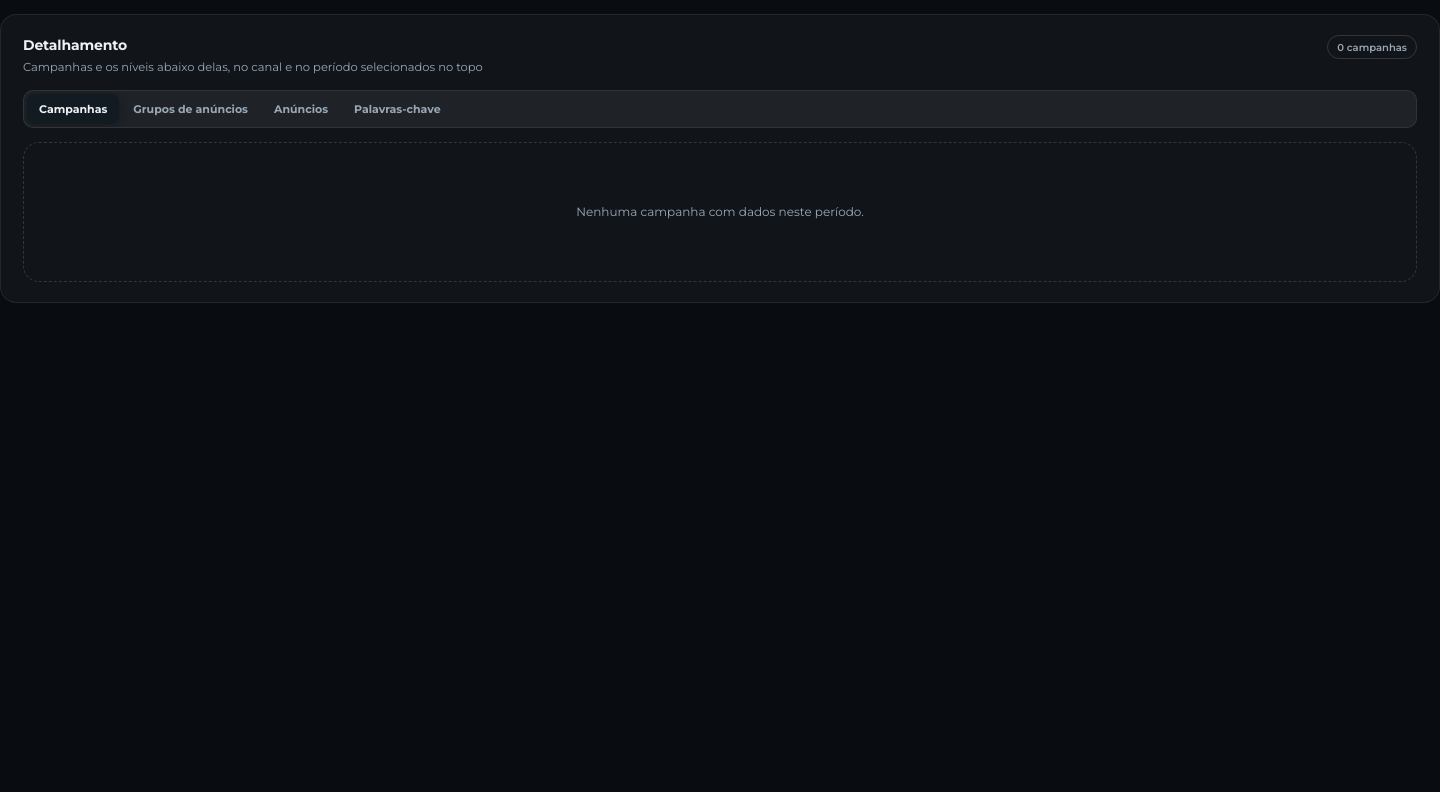
Test: detalhamento de mídia: Top 5 e expansão › trocar de nível recolhe: Palavras-chave expandidas → Anúncios volta a 5
Click the tab "Palavras-chave".
click(397, 109)  # box [342,94,453,124]
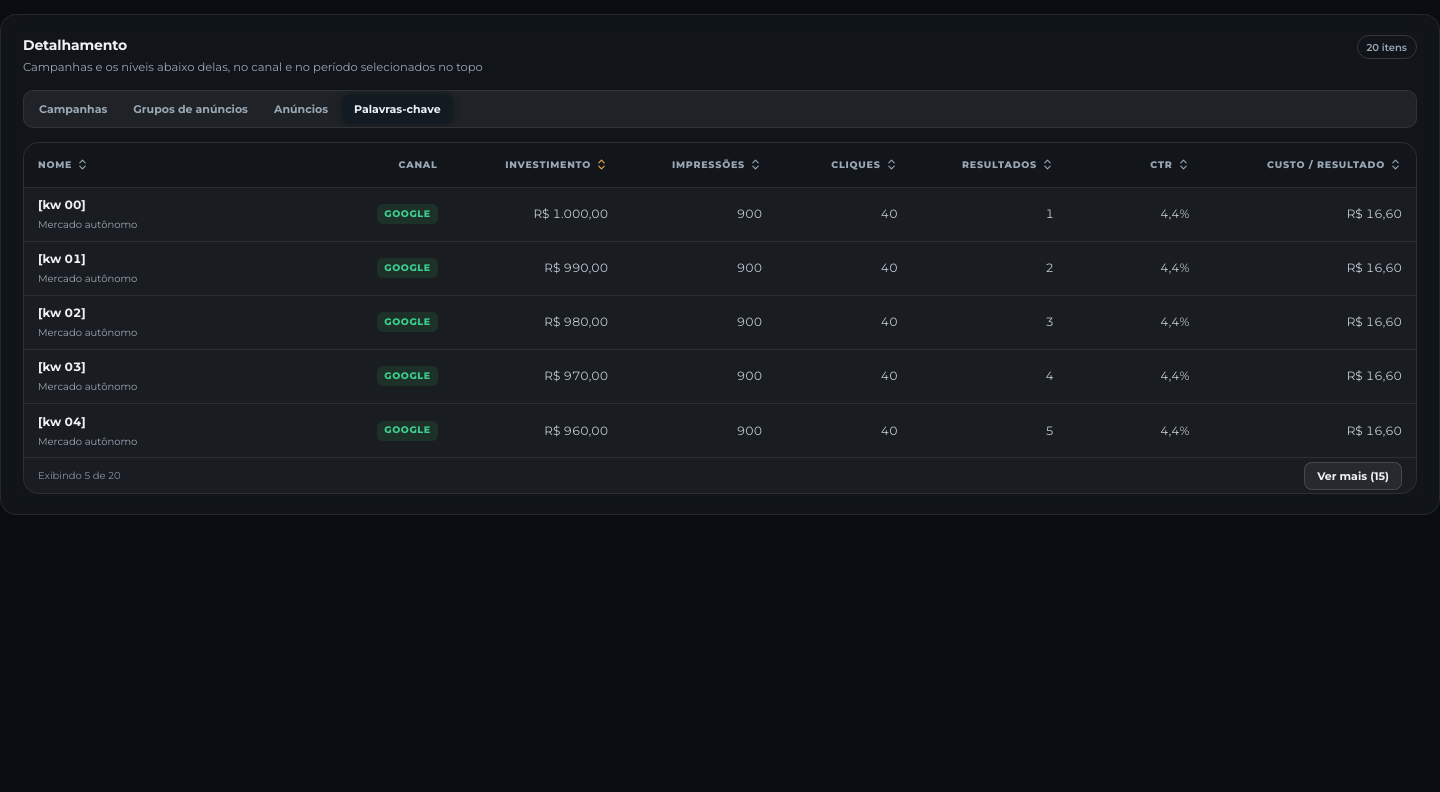
Click the button "Ver mais (15)".
click(1353, 476)  # box [1304,462,1402,490]
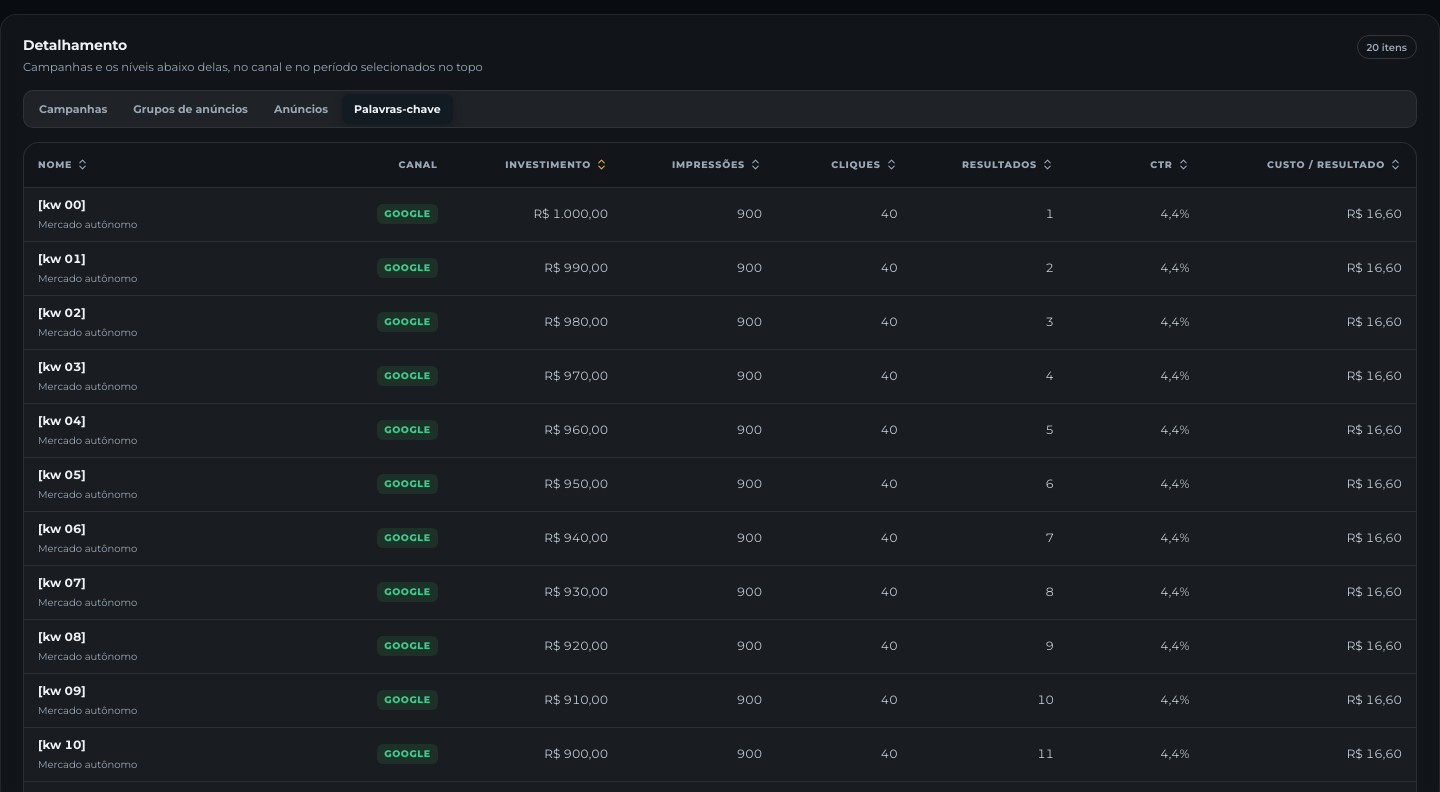
Click the tab "Anúncios".
click(301, 109)  # box [262,94,340,124]
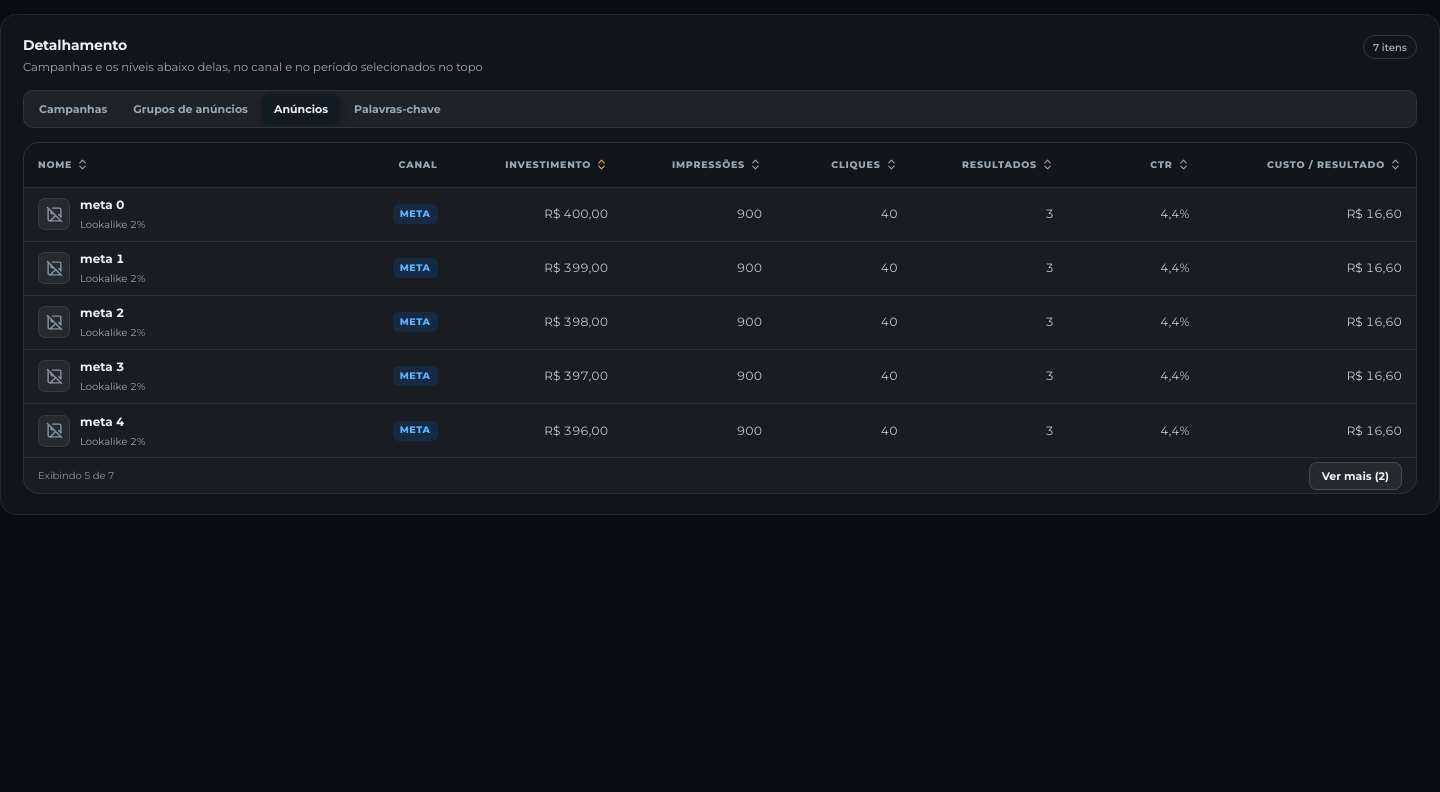
expect the text with class "table-count" reads "Exibindo 5 de 7": met, box [38,469,114,482]
expect the button "Ver mais (2)" is shown: met, box [1309,462,1402,490]
